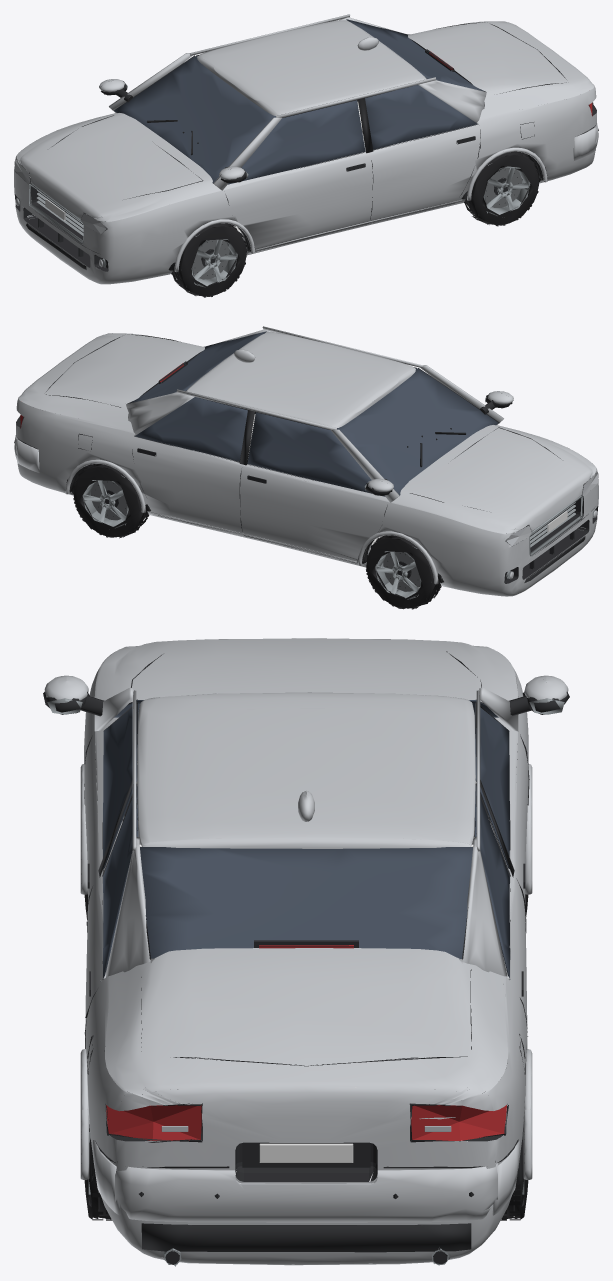
Rendered from sedan-v2.glb.
3 views of the same model, one above another, from view 1: azimuth 30°, elevation 25°; view 2: azimuth 150°, elevation 25°; view 3: azimuth 270°, elevation 25° (orthographic). The views are drawn at different scales.
Visible parts, largest first — view 1: paint, glass.001, black.001, rubber.001, chrome, steel.001, clearlens; view 2: paint, glass.001, black.001, rubber.001, chrome, steel.001, clearlens; view 3: paint, glass.001, black.001, redlens, white, rubber.001, chrome.
Boxes of the visible parts, x1,y1,x2,y2 form: paint: (14,14,598,284); glass.001: (114,19,484,184); black.001: (14,22,598,275); rubber.001: (171,151,539,297); chrome: (17,80,530,287); steel.001: (192,167,530,279); clearlens: (15,160,106,266); paint: (14,326,598,596); glass.001: (129,331,498,496); black.001: (14,334,598,588); rubber.001: (73,464,441,609); chrome: (82,392,595,599); steel.001: (84,480,420,591); clearlens: (506,472,597,579); paint: (44,638,568,1265); glass.001: (102,700,510,979); black.001: (43,651,569,1264); redlens: (106,945,506,1140); white: (259,1143,353,1162); rubber.001: (84,793,528,1220); chrome: (47,698,564,1266).
Bounding box in the file's own units: 4.84 × 1.56 × 2.19.
